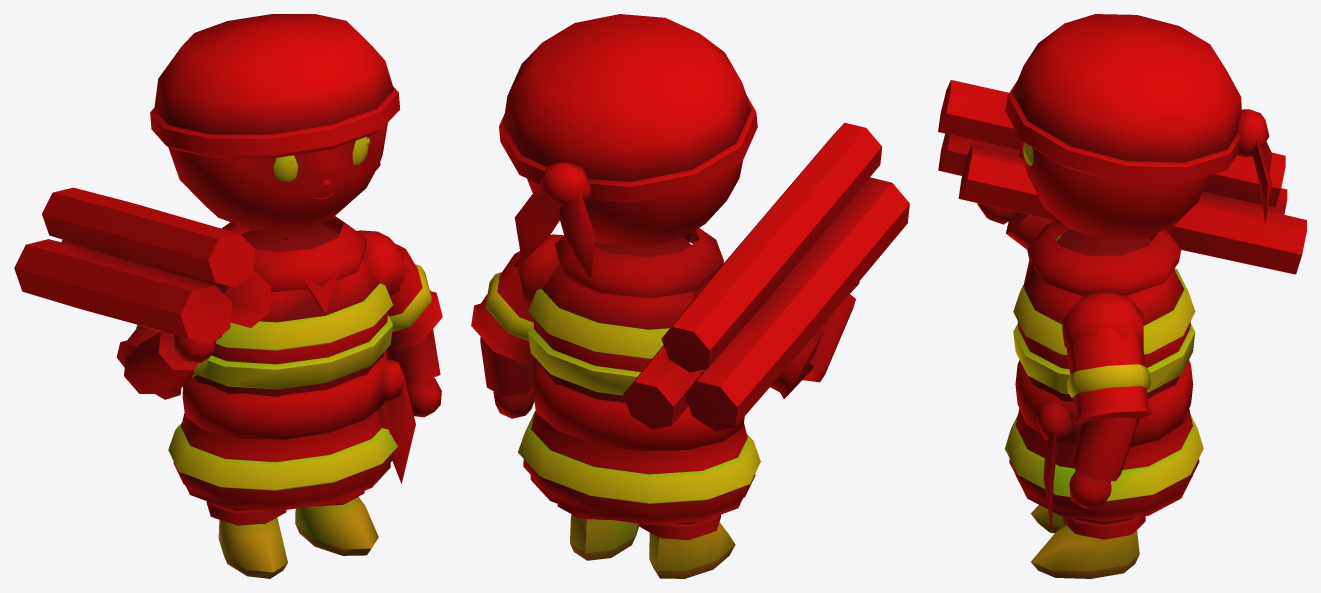
The model's file is PirateDeckhand_carry_wood.glb.
The picture shows the model from 3 angles, left to right: view 1: azimuth 30°, elevation 25°; view 2: azimuth 150°, elevation 25°; view 3: azimuth 270°, elevation 25°; orthographic projection. The views are drawn at different scales.
Visible parts, largest first — view 1: PirateDeckhand_carry_wood; view 2: PirateDeckhand_carry_wood; view 3: PirateDeckhand_carry_wood.
Part boxes in pixels (<box>): PirateDeckhand_carry_wood: <box>14,14,442,578</box>; PirateDeckhand_carry_wood: <box>471,14,909,578</box>; PirateDeckhand_carry_wood: <box>938,14,1306,578</box>.
Bounding box in the file's own units: 0.571 × 0.8097 × 0.5346.
